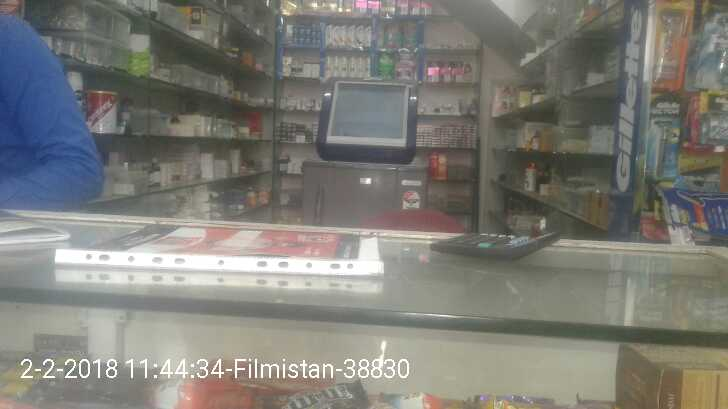vicks: (279, 24, 318, 46)
